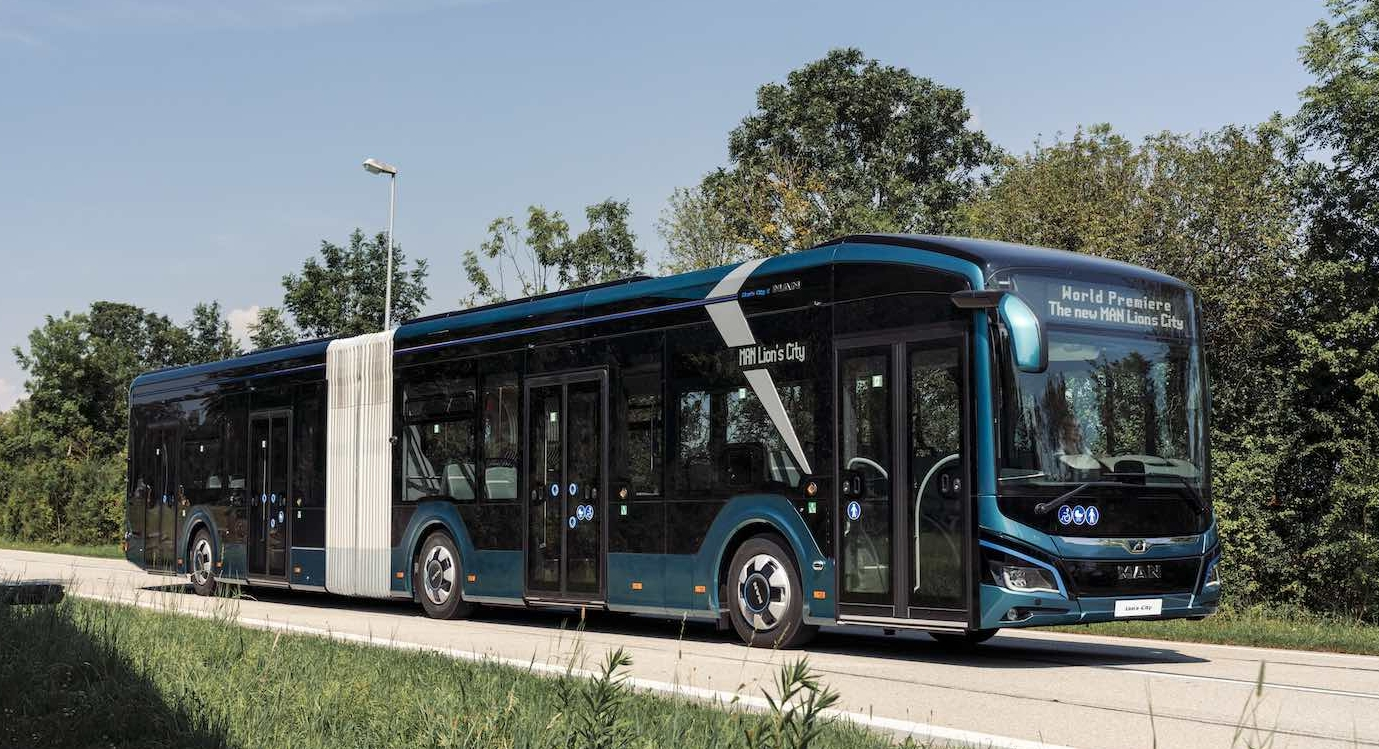bus: (115, 234, 1224, 656)
